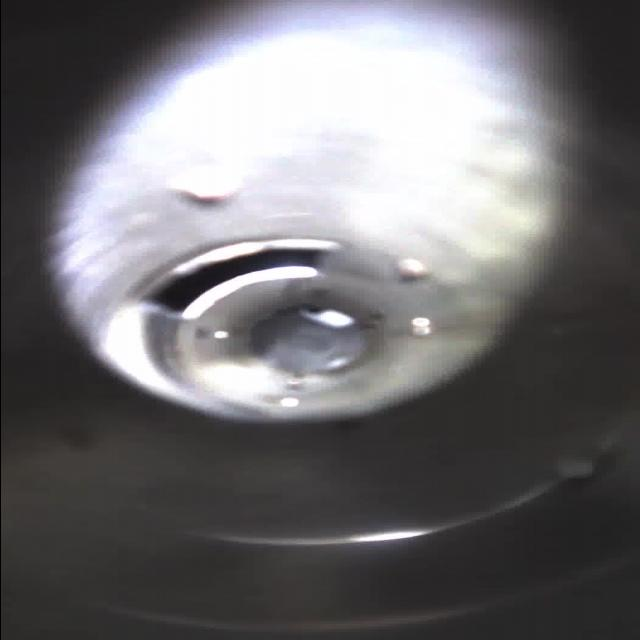hole: (134, 236, 444, 329)
